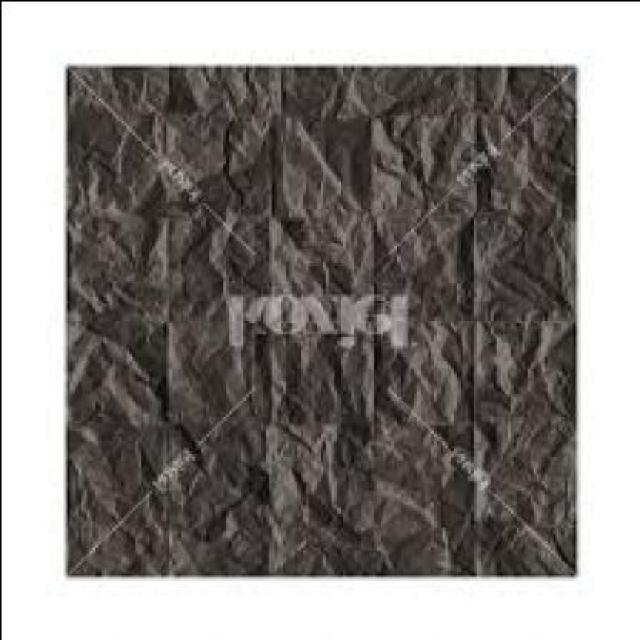PAPER: (62, 68, 575, 582)
